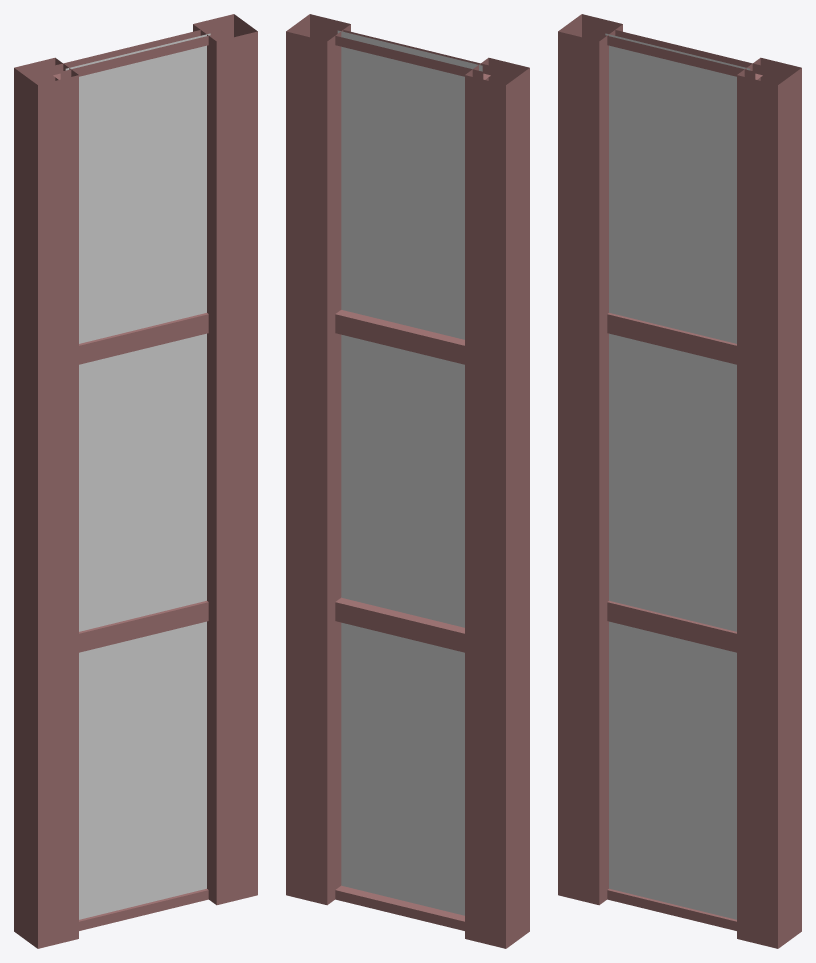
Rendered from SM_Window_00.fbx.
The picture shows the model from 3 angles, left to right: view 1: azimuth 30°, elevation 25°; view 2: azimuth 150°, elevation 25°; view 3: azimuth 330°, elevation 25°; orthographic projection.
Visible parts, largest first — view 1: Window_00; view 2: Window_00; view 3: Window_00.
Boxes of the visible parts, x1,y1,x2,y2 form: Window_00: (14, 14, 257, 948); Window_00: (286, 14, 529, 948); Window_00: (558, 14, 801, 948).
Bounding box in the file's own units: 80 × 300 × 15.
